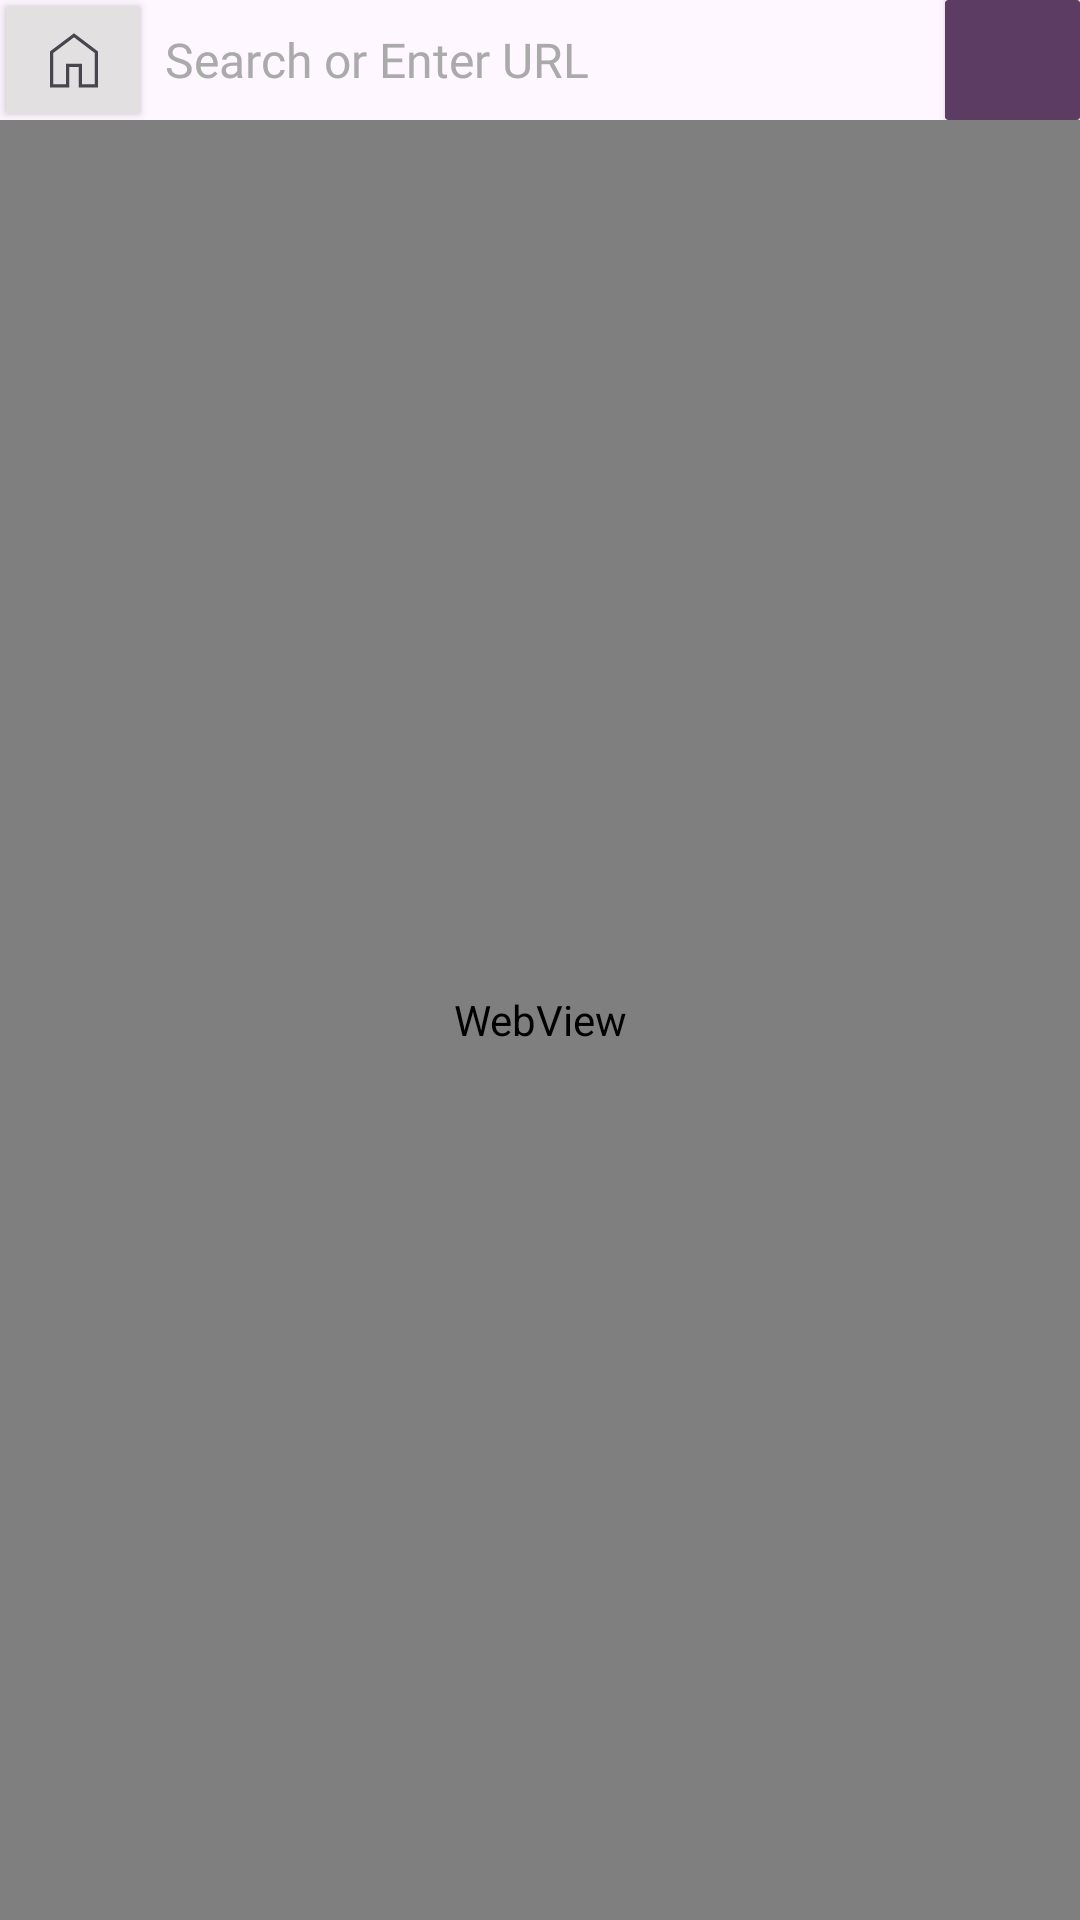

Icon bounding boxes for this 1080x1920 phone screenshot, format (x1, y1, x2, y2):
home: (6, 6, 141, 114)
